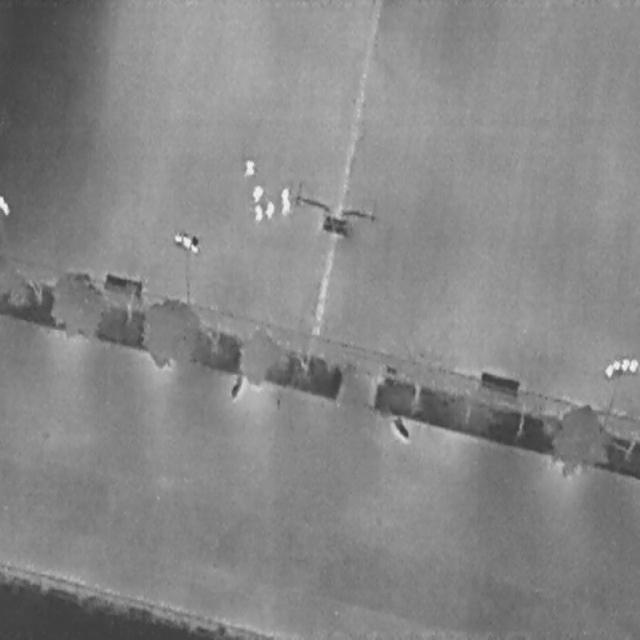Person: (264, 200, 274, 220), (252, 184, 263, 201), (280, 185, 290, 203), (243, 159, 254, 175), (254, 202, 262, 222), (281, 199, 290, 215)
